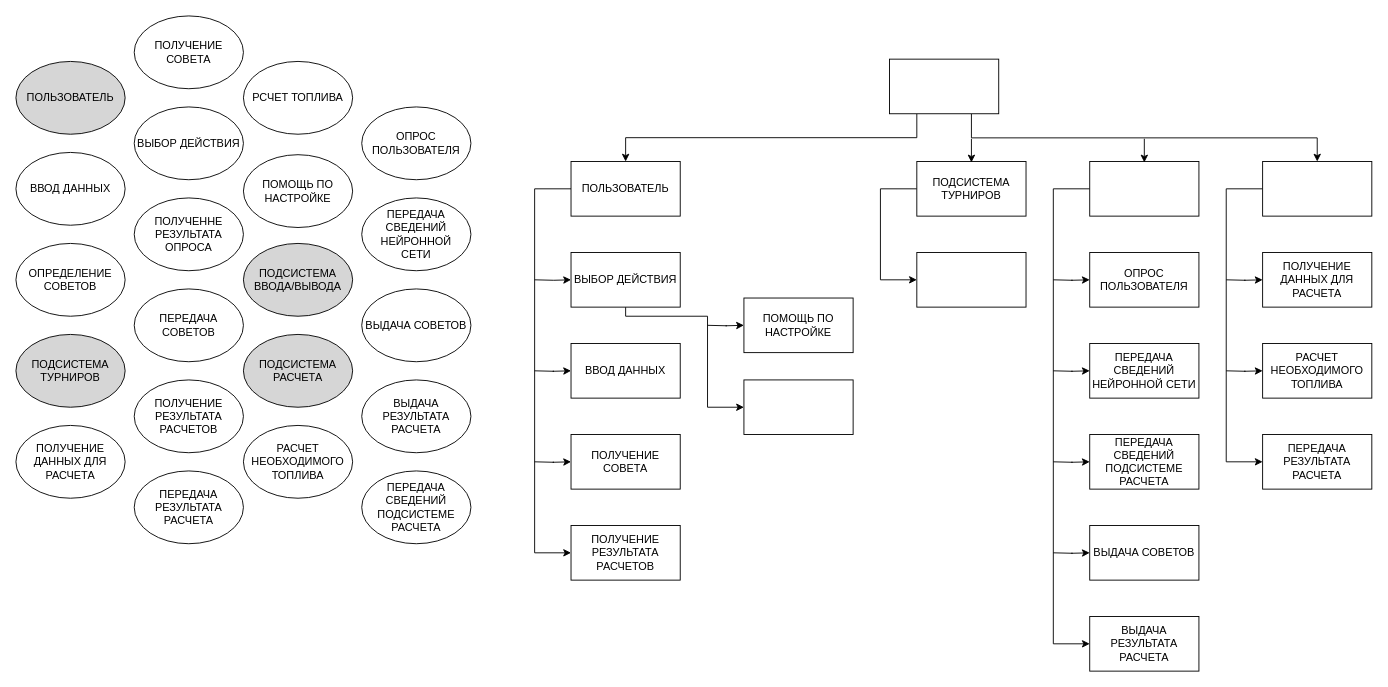
Some shapes in this 1388 by 687 pixel diagram are drawn without their labels. The shapes that lost their labels are listed below. From the top down, each one's box as (x1, y1, x2, y2) in pixels, then its label:
(889, 58, 999, 114): ВСЕ ТОЧКИ ЗРЕНИЯ
(1089, 161, 1199, 216): ПОДСИТСЕМА ВВОДА/ВЫВОДА
(1262, 161, 1372, 216): ПОДСИТСЕМА РАСЧЕТА
(916, 252, 1026, 307): ВЫВОД ИНФОРМАЦИИ О ТУРНИРАХ
(743, 379, 853, 435): РАСЧЕТ ТОПЛИВА
